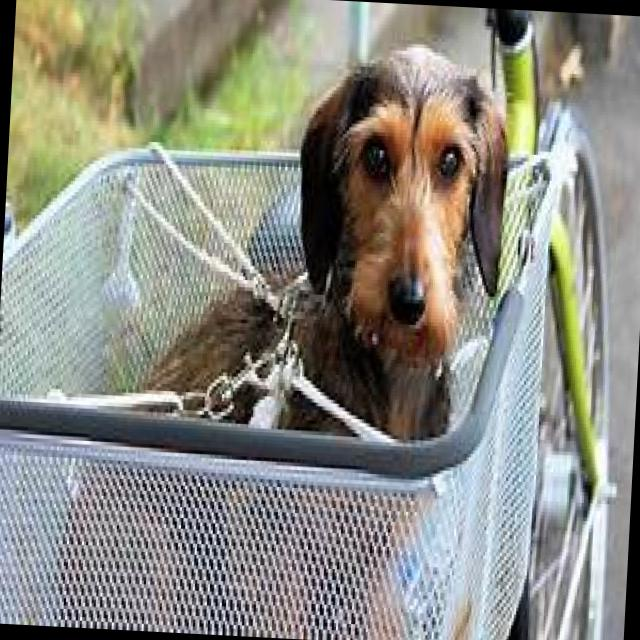animal: (134, 28, 515, 450)
